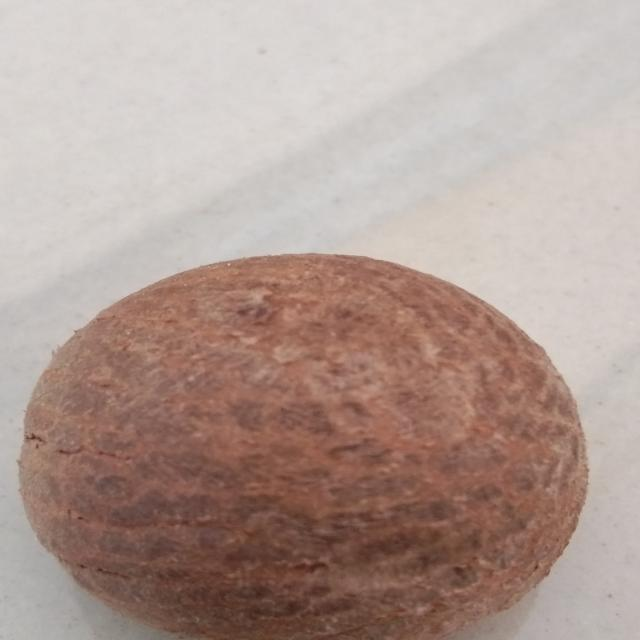phatora: (22, 238, 599, 640)
